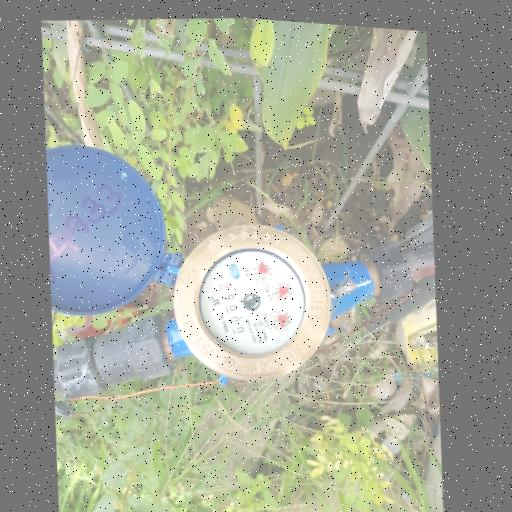0: (224, 301, 242, 316), (231, 322, 248, 336), (229, 311, 244, 325)
2: (217, 279, 233, 293)
5: (220, 290, 237, 304)
border_water_meter_number: (212, 276, 252, 340)
